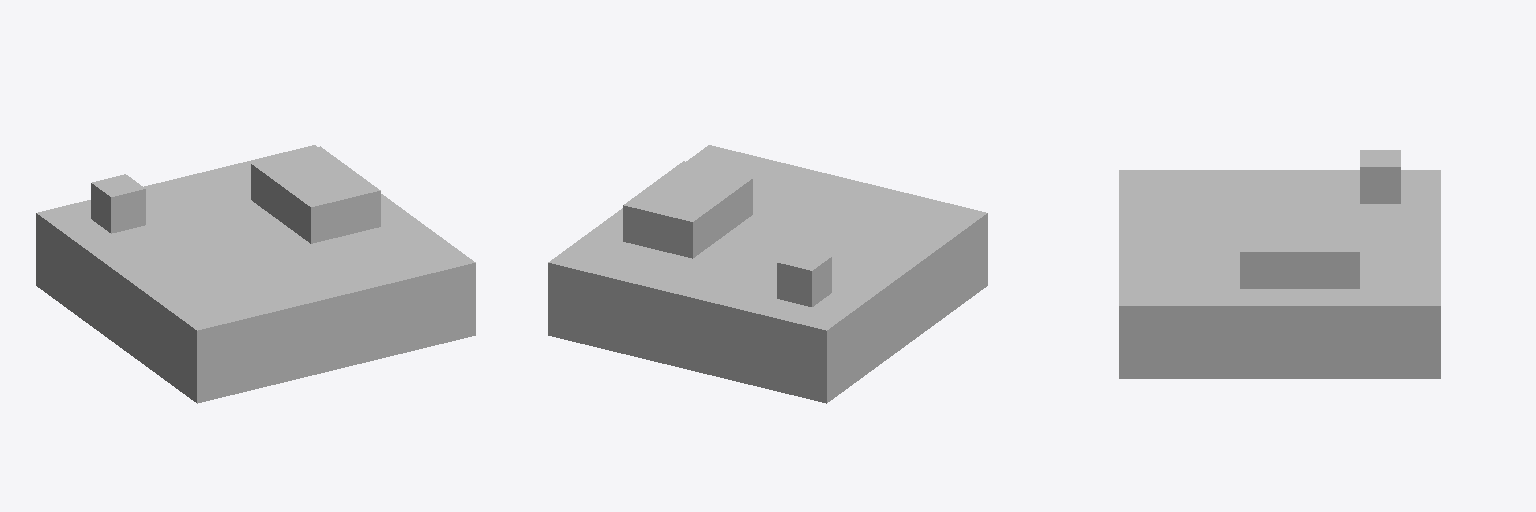
The model's file is Grass 2.obj.
3 views of the same model, side by side, from view 1: azimuth 30°, elevation 25°; view 2: azimuth 150°, elevation 25°; view 3: azimuth 270°, elevation 25° (orthographic).
Visible parts, largest first — view 1: object 1; view 2: object 1; view 3: object 1.
Boxes of the visible parts, x1=… form: object 1: x1=36, y1=145, x2=475, y2=403; object 1: x1=548, y1=145, x2=987, y2=403; object 1: x1=1119, y1=150, x2=1440, y2=378.
Size of the model in its own units: 0.8 by 0.3 by 0.8.